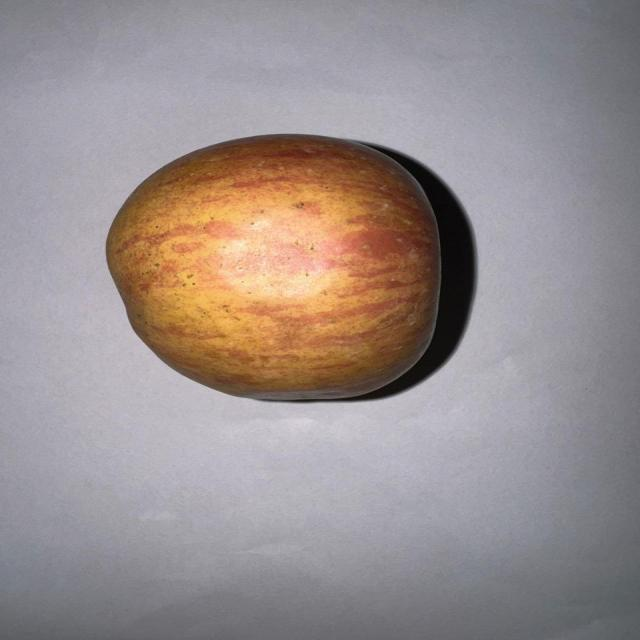fresh_apple: (101, 132, 446, 398)
